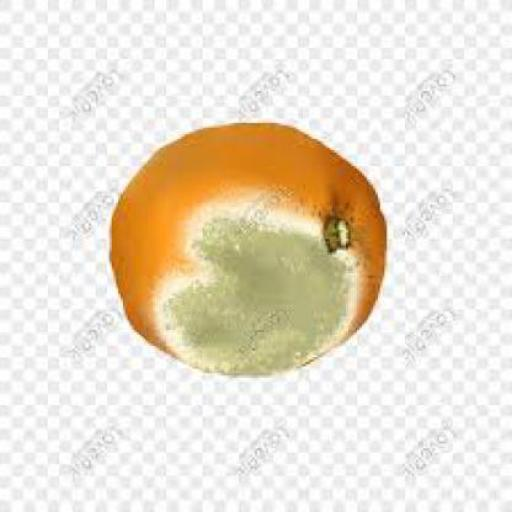biodegradable: (111, 125, 392, 385)
